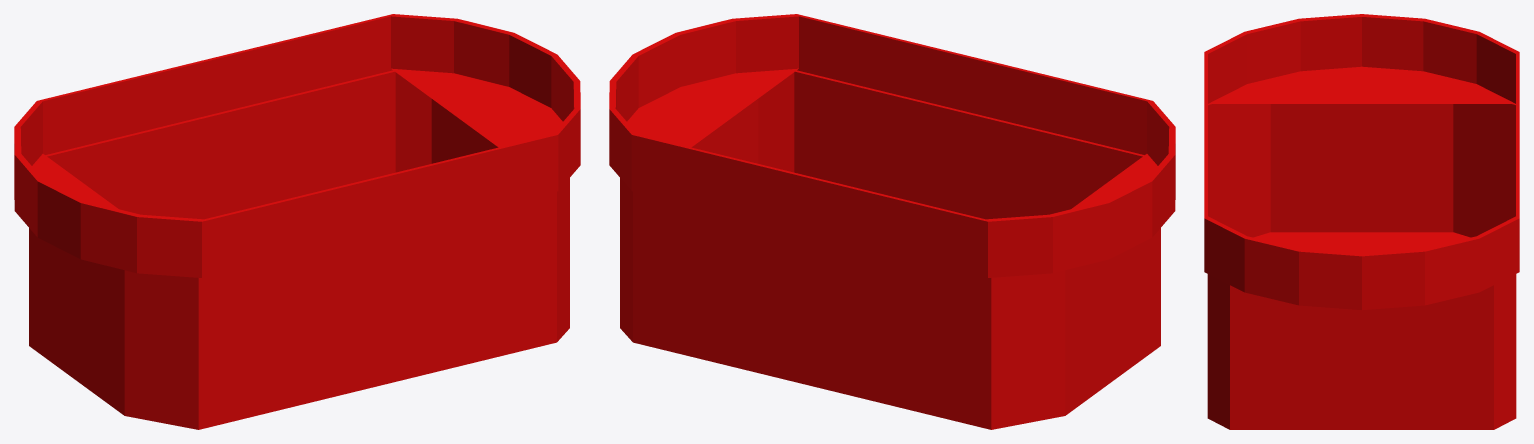
The model's file is chassis.dae.
3 views of the same model, side by side, from view 1: azimuth 30°, elevation 25°; view 2: azimuth 150°, elevation 25°; view 3: azimuth 270°, elevation 25° (orthographic). The views are drawn at different scales.
Parts seen in each view (by area): view 1: Plane.001; view 2: Plane.001; view 3: Plane.001.
Part boxes in pixels (x1=…): Plane.001: x1=14, y1=14, x2=580, y2=429; Plane.001: x1=609, y1=14, x2=1175, y2=429; Plane.001: x1=1204, y1=14, x2=1519, y2=429.
Size of the model in its own units: 0.4972 by 0.2736 by 0.1913.
